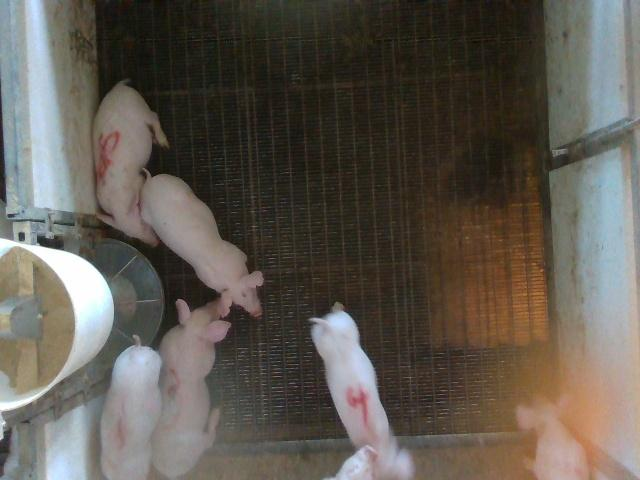pig-1: (100, 338, 161, 479)
pig-3: (152, 299, 229, 478)
pig-4: (311, 309, 410, 479)
pig-5: (94, 80, 169, 246)
